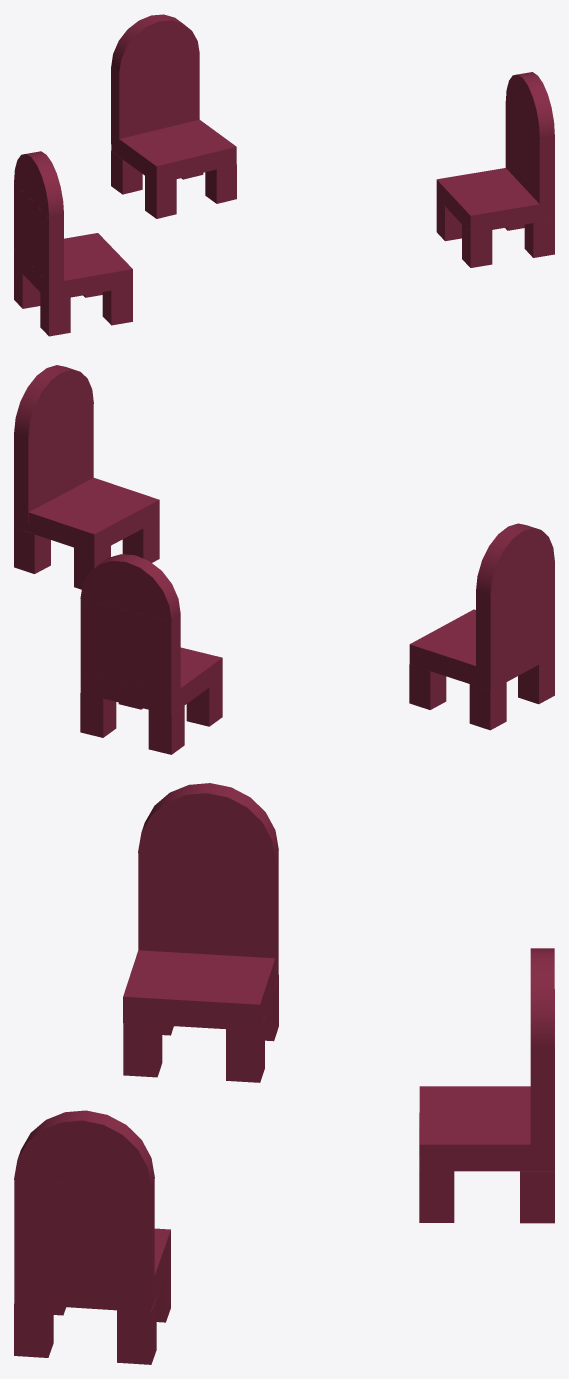
Rendered from sillas.obj.
3 views of the same model, one above another, from view 1: azimuth 30°, elevation 25°; view 2: azimuth 150°, elevation 25°; view 3: azimuth 270°, elevation 25° (orthographic). The views are drawn at different scales.
Parts seen in each view (by area): view 1: sillas:pCube4group11; view 2: sillas:pCube4group11; view 3: sillas:pCube4group11.
Part boxes in pixels (left/top/right/bottom): sillas:pCube4group11: left=14, top=14, right=554, bottom=336; sillas:pCube4group11: left=14, top=365, right=554, bottom=754; sillas:pCube4group11: left=14, top=783, right=554, bottom=1364.
Size of the model in its own units: 7.86 by 2.54 by 5.19.
Materials: 1 (1 with a texture image).
